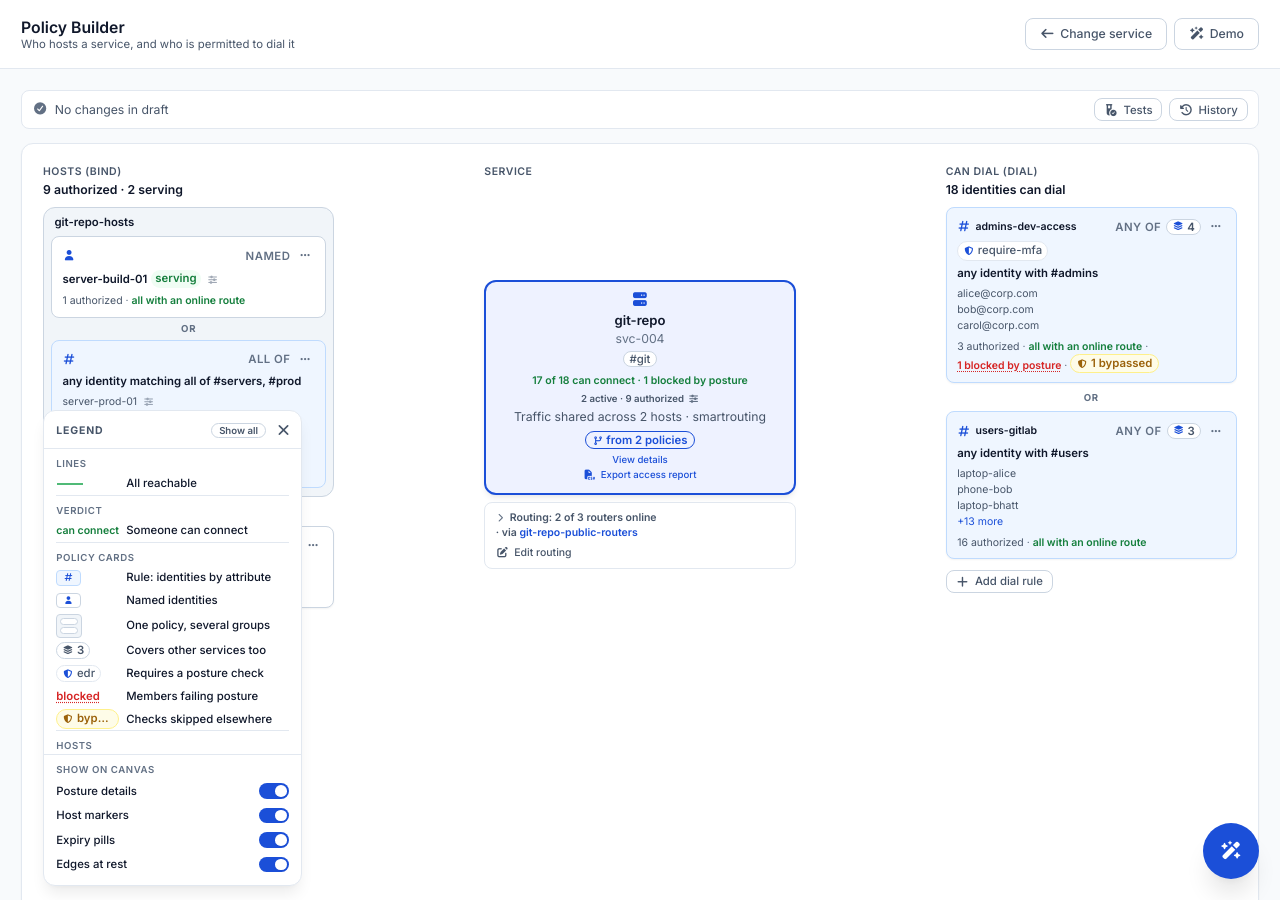
Scenario: PolicyBuilderComponent — live changes from outside the builder (Demo panel) › each scenario updates live and History with its actor
The width and height of the screenshot is (1280, 900).
Click the button with class "demo-btn" at (1217, 34), box [1174,18,1259,50]
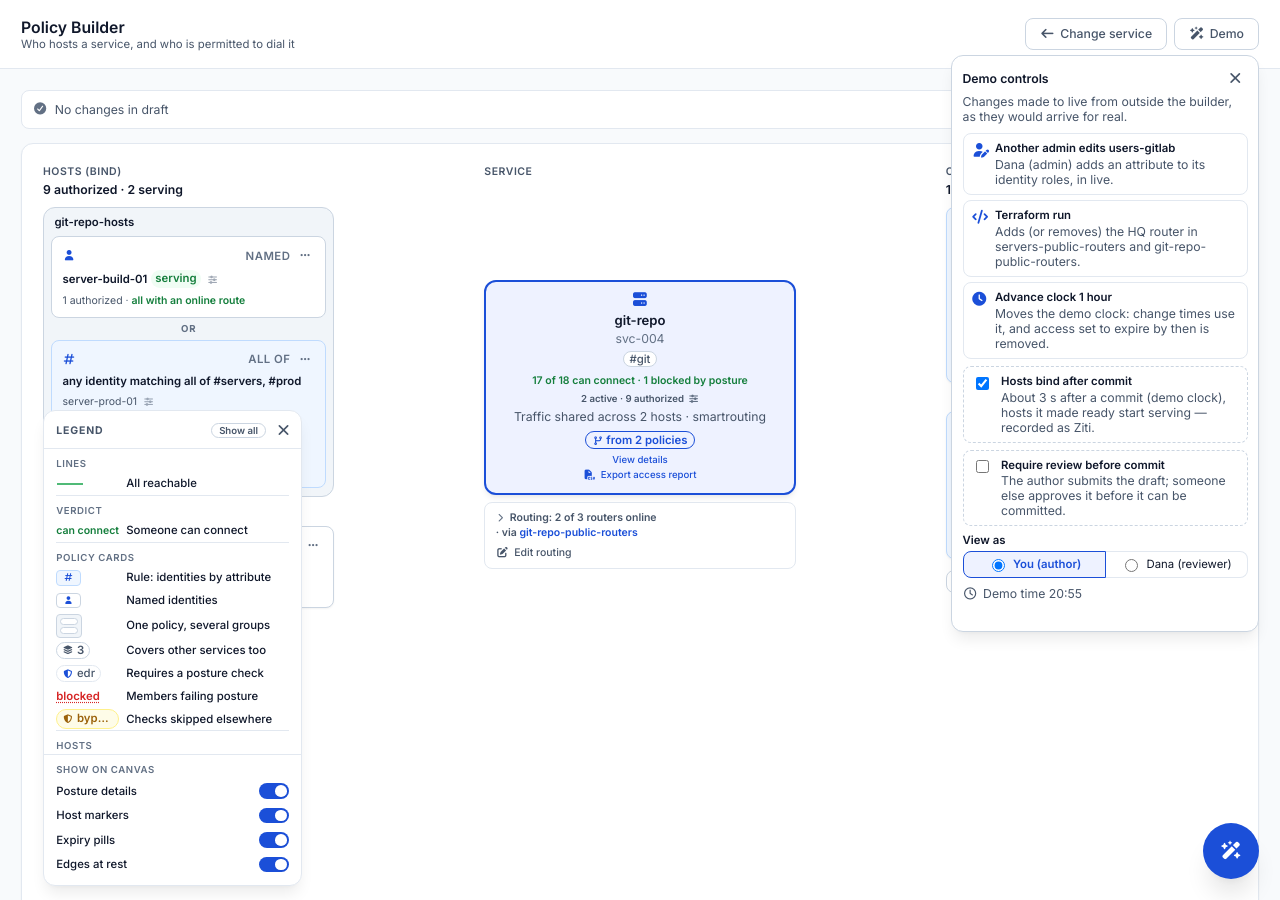
Click the button that starts with "Another admin edits users-gitlab" at (1105, 164), box [962,133,1248,195]
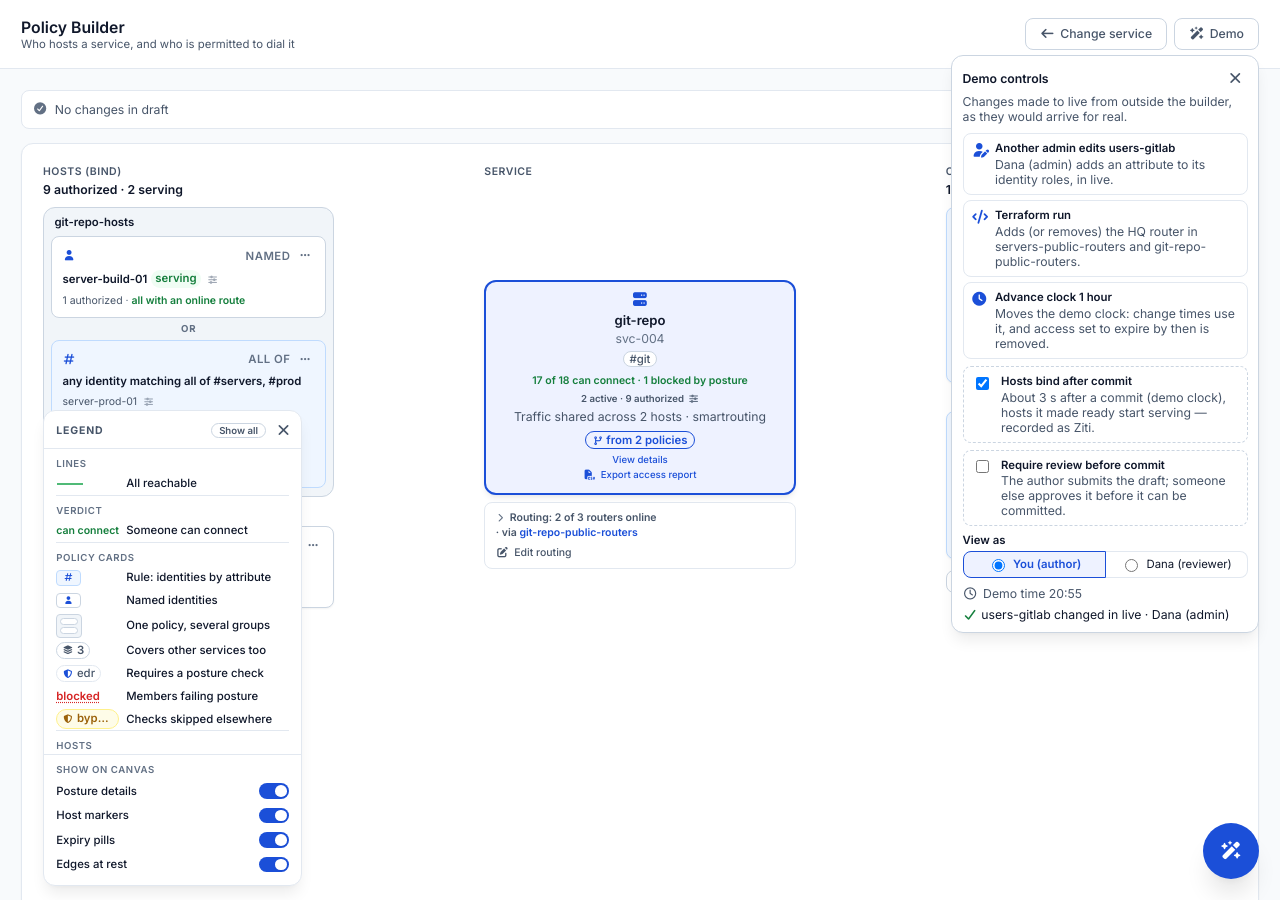
Click the button that starts with "Terraform run" at (1105, 239), box [962,200,1248,277]
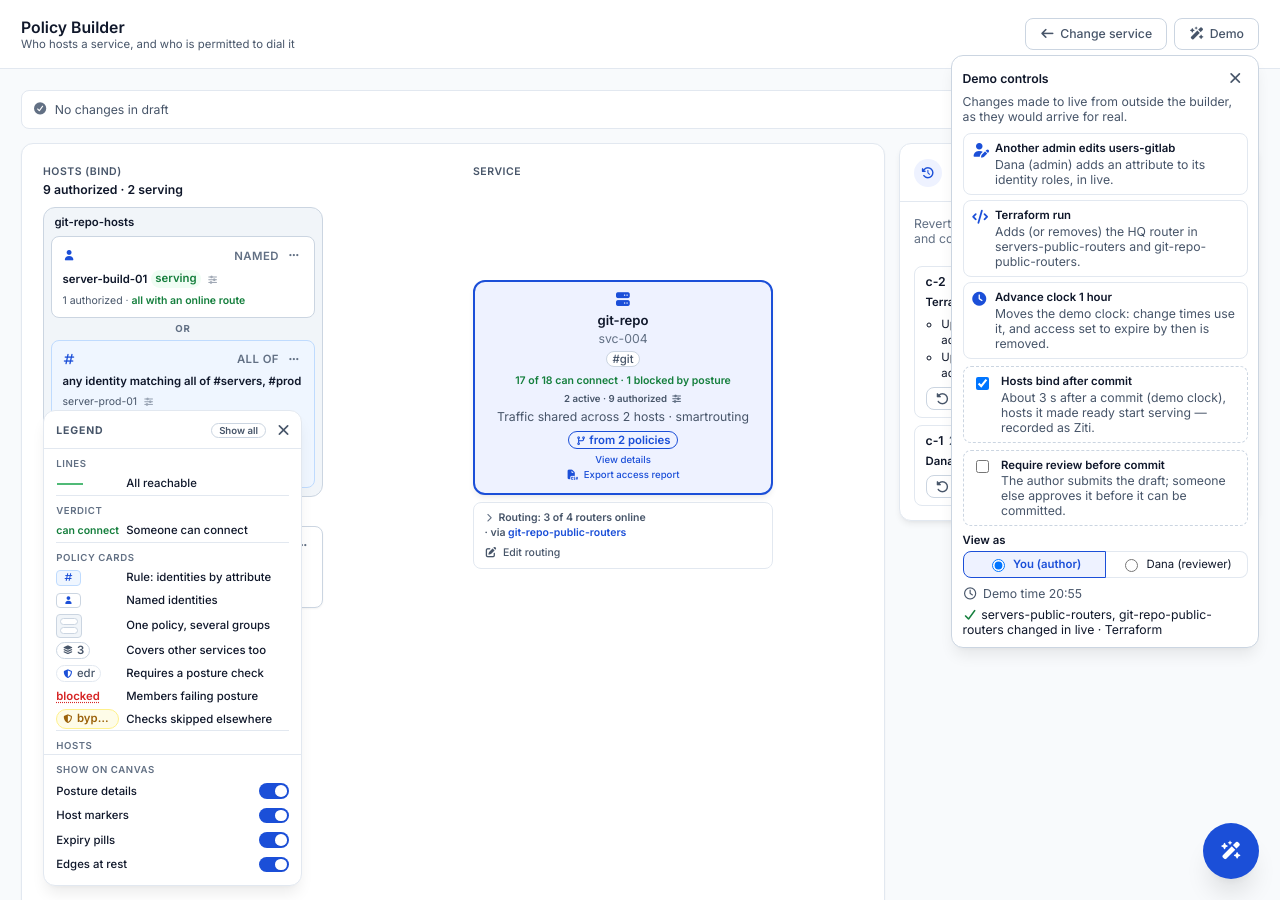
Now the list item with class "hp-commit" shows "Terraform · 2 changes", box [914,266,1244,418]
Now the list item with class "hp-commit" shows "Updated servers-public-routers", box [941,317,1200,347]
Now the list item with class "hp-commit" shows "Updated git-repo-public-routers", box [941,350,1210,380]
